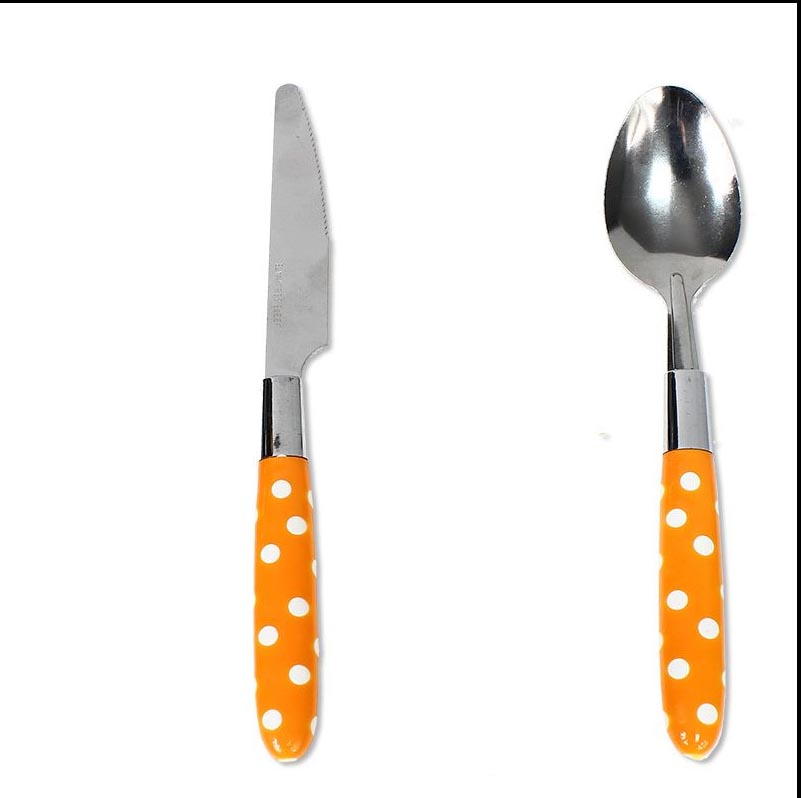Lyzka: (603, 77, 744, 307)
Noz: (254, 79, 335, 380)
